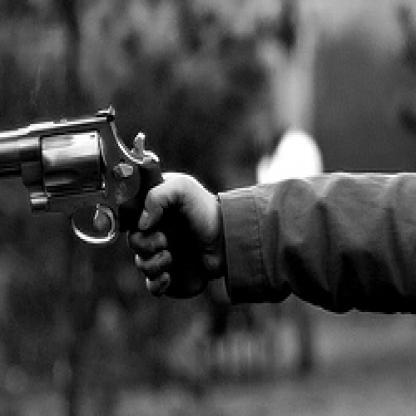gun: (0, 90, 182, 295)
